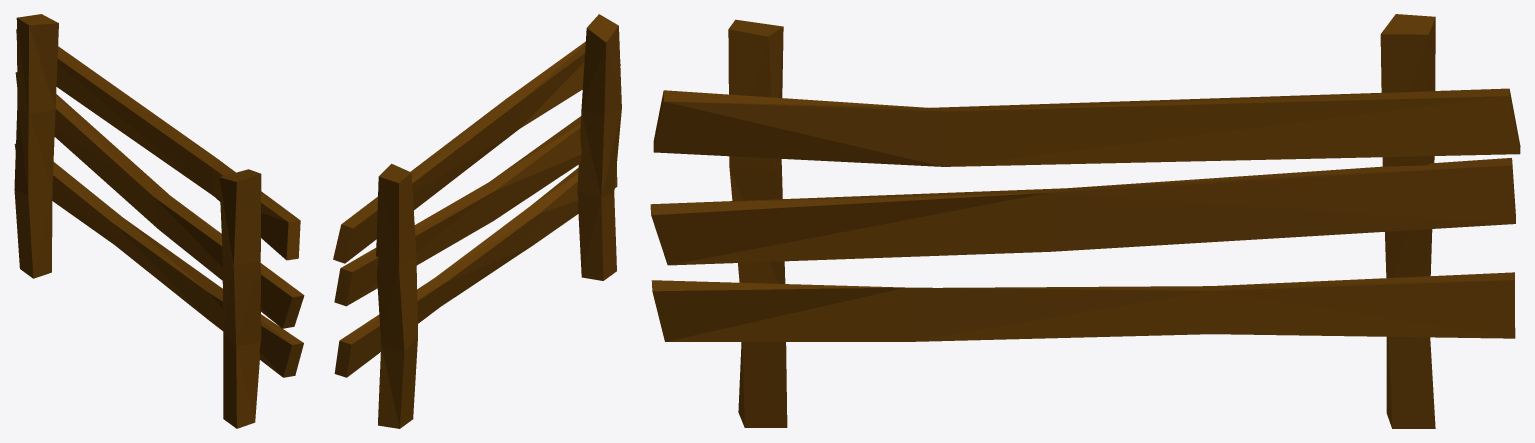
File: fence_lowpoly.obj
The picture shows the model from 3 angles, left to right: view 1: azimuth 30°, elevation 25°; view 2: azimuth 150°, elevation 25°; view 3: azimuth 270°, elevation 25°; orthographic projection. The views are drawn at different scales.
Visible parts, largest first — view 1: fence_Cube; view 2: fence_Cube; view 3: fence_Cube.
Boxes of the visible parts, x1,y1,x2,y2 form: fence_Cube: [14, 14, 304, 428]; fence_Cube: [333, 14, 621, 428]; fence_Cube: [650, 14, 1520, 428].
Bounding box in the file's own units: 0.4418 × 2.04 × 4.02.
